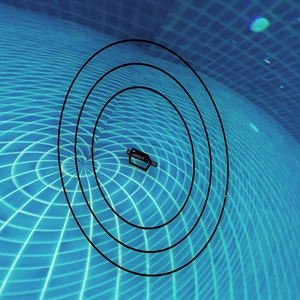submarine: (133, 154, 152, 168)
